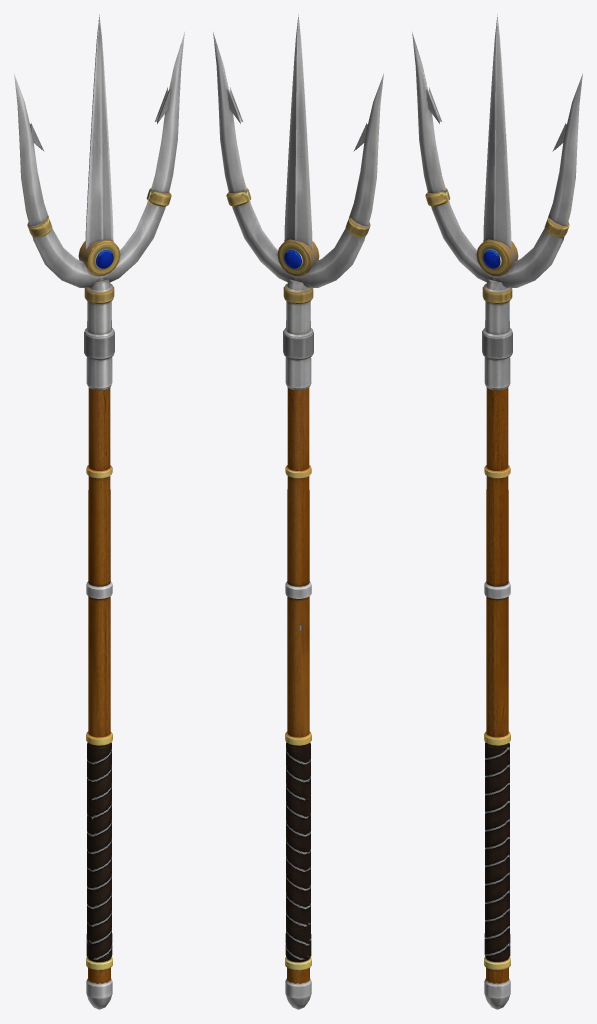
The model's file is w_trident_t2.glb.
The picture shows the model from 3 angles, left to right: view 1: azimuth 30°, elevation 25°; view 2: azimuth 150°, elevation 25°; view 3: azimuth 330°, elevation 25°; orthographic projection.
Parts seen in each view (by area): view 1: w_trident; view 2: w_trident; view 3: w_trident.
Boxes of the visible parts, x1,y1,x2,y2 form: w_trident: [14, 14, 184, 1009]; w_trident: [213, 14, 383, 1009]; w_trident: [412, 14, 582, 1009].
Size of the model in its own units: 21.2 by 118 by 3.24.
Materials: 1 (1 with a texture image).
